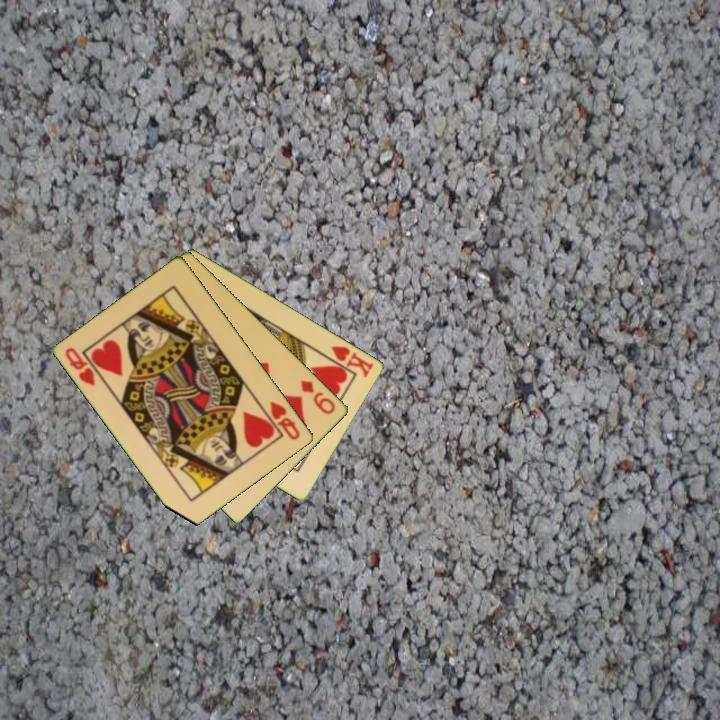9d: (297, 377, 339, 417)
Kh: (320, 342, 377, 380)
Qh: (267, 397, 303, 443), (62, 344, 98, 389)
